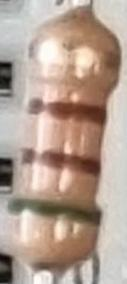Brown: (25, 96, 104, 124), (23, 147, 98, 176)
Green: (10, 195, 99, 225)
Side-Silver: (30, 40, 120, 79)
